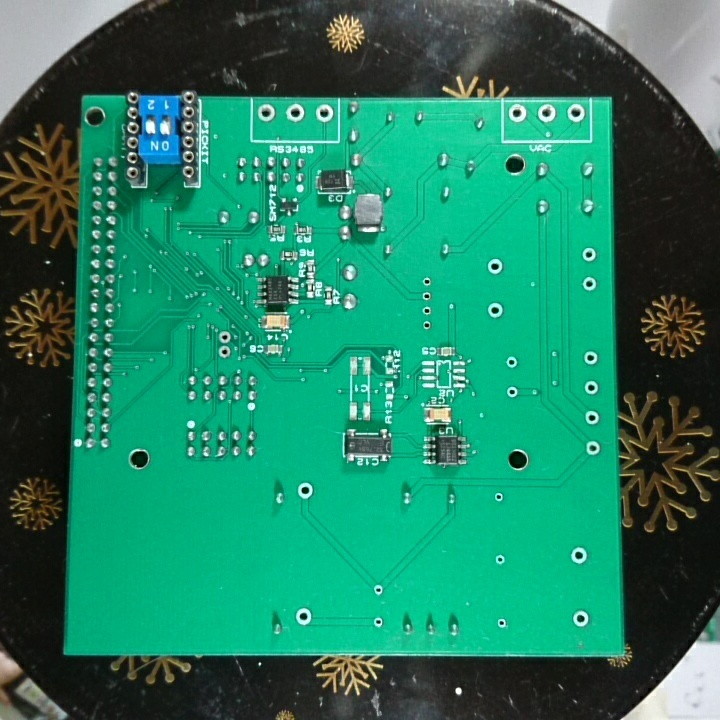F: (569, 607, 594, 631), (535, 102, 559, 126), (254, 102, 279, 125), (568, 543, 591, 567), (283, 103, 308, 125), (313, 103, 337, 125), (564, 102, 586, 125), (295, 479, 316, 503), (582, 438, 604, 460), (507, 103, 528, 126), (294, 606, 315, 629), (579, 273, 600, 294), (485, 256, 506, 277), (485, 300, 506, 321), (581, 347, 601, 369), (582, 407, 602, 429), (580, 245, 599, 266), (582, 377, 601, 398), (216, 343, 233, 361), (504, 354, 520, 372), (494, 615, 510, 632), (504, 383, 519, 401), (493, 552, 508, 569), (370, 613, 385, 630), (419, 303, 436, 318), (418, 289, 436, 303), (492, 487, 505, 506), (370, 582, 385, 598), (216, 329, 232, 344), (420, 319, 435, 334), (419, 275, 436, 288)
